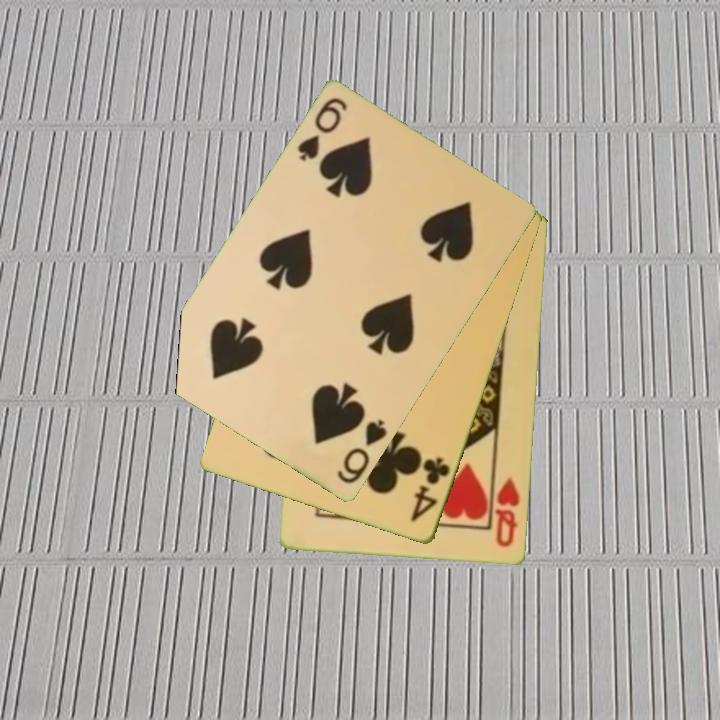4c: (407, 454, 453, 526)
6s: (333, 416, 391, 488), (294, 94, 350, 165)
Qh: (492, 474, 523, 550)
